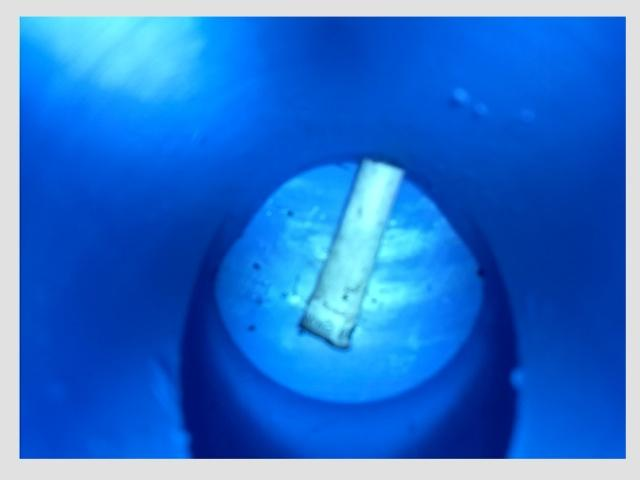megot: (290, 155, 409, 355)
